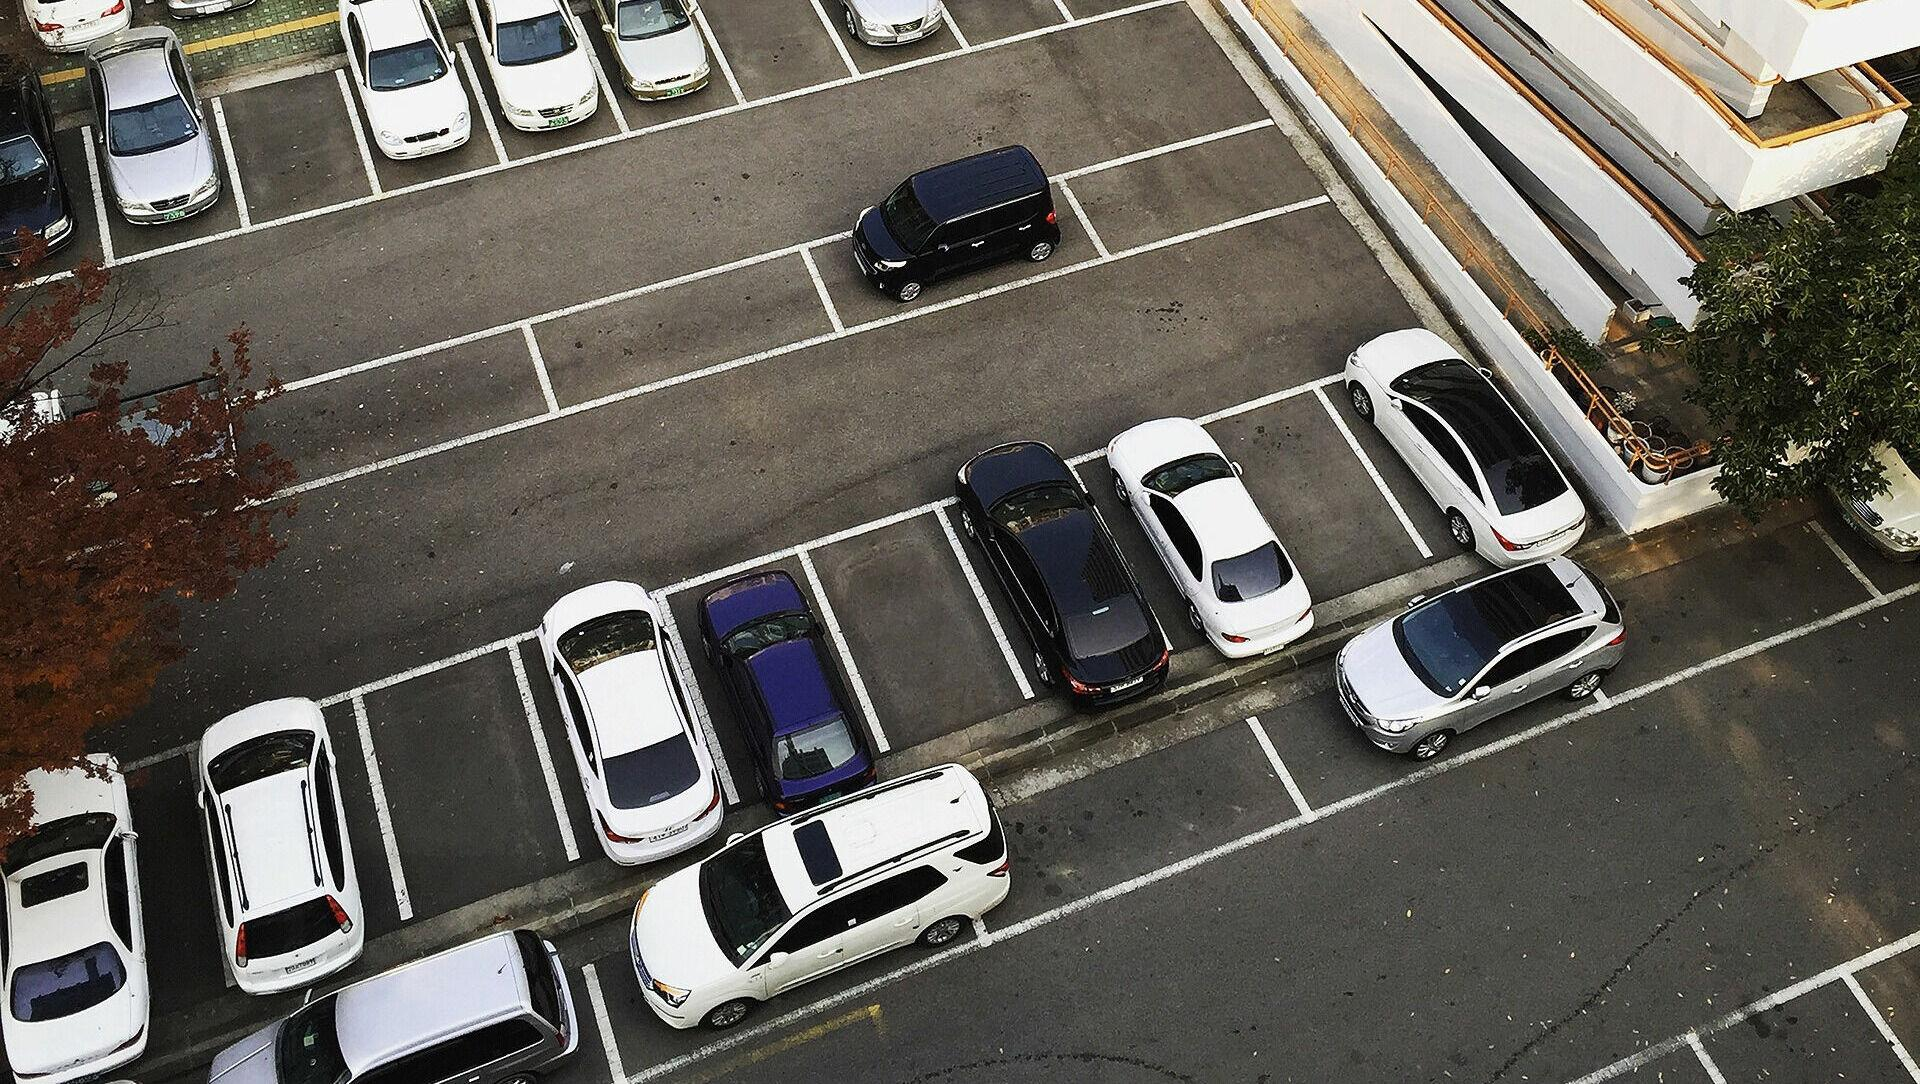occupied: (568, 814, 1000, 1084), (1238, 611, 1621, 826), (1056, 418, 1328, 671), (193, 692, 407, 980), (513, 595, 735, 856), (662, 549, 884, 800), (939, 464, 1170, 694), (803, 178, 1108, 332), (84, 91, 248, 264), (338, 36, 506, 198), (458, 9, 628, 165)
vacant: (934, 703, 1329, 952), (1535, 508, 1892, 713), (1183, 377, 1448, 621), (228, 323, 555, 504), (356, 641, 574, 911), (802, 506, 1030, 748), (525, 248, 843, 413), (1060, 116, 1340, 258), (215, 62, 380, 229), (683, 0, 862, 108)
